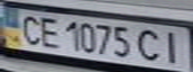0: (78, 19, 96, 54)
1: (60, 18, 81, 52)
5: (112, 24, 136, 60)
7: (93, 21, 115, 56)
C: (136, 26, 166, 63), (15, 11, 45, 46)
E: (36, 15, 63, 49)
I: (157, 28, 190, 65)
